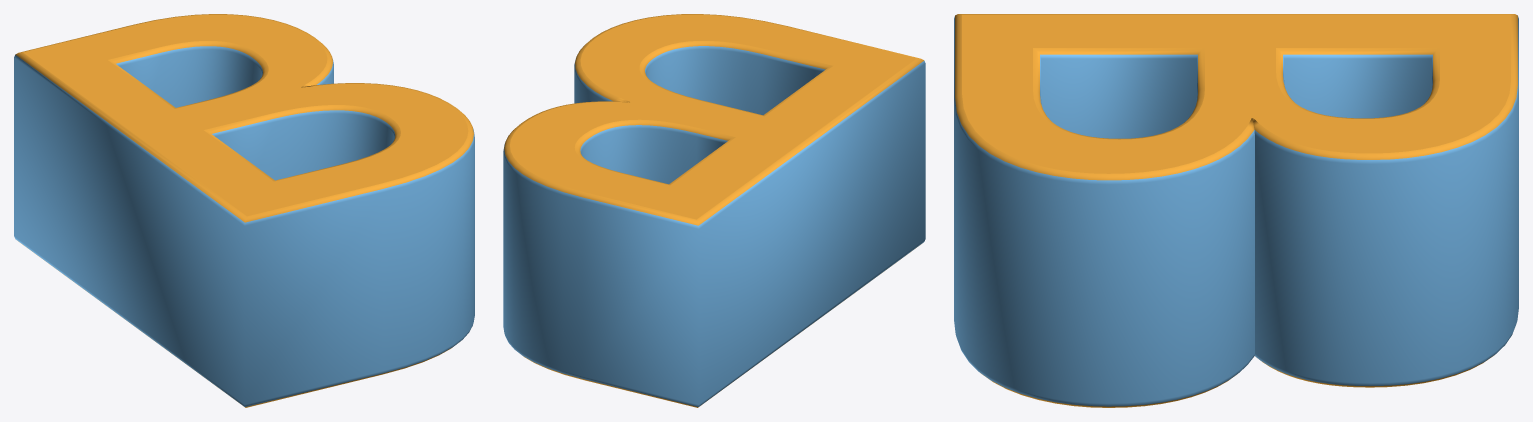
Rendered from letter_B.fbx.
The picture shows the model from 3 angles, left to right: view 1: azimuth 30°, elevation 25°; view 2: azimuth 150°, elevation 25°; view 3: azimuth 270°, elevation 25°; orthographic projection. The views are drawn at different scales.
Visible parts, largest first — view 1: Letter_B; view 2: Letter_B; view 3: Letter_B.
Part boxes in pixels (box(x1,y1,x2,y2)): Letter_B: box(14, 14, 474, 407); Letter_B: box(503, 14, 925, 407); Letter_B: box(954, 14, 1518, 407).
Bounding box in the file's own units: 48.8 × 32 × 70.2.
